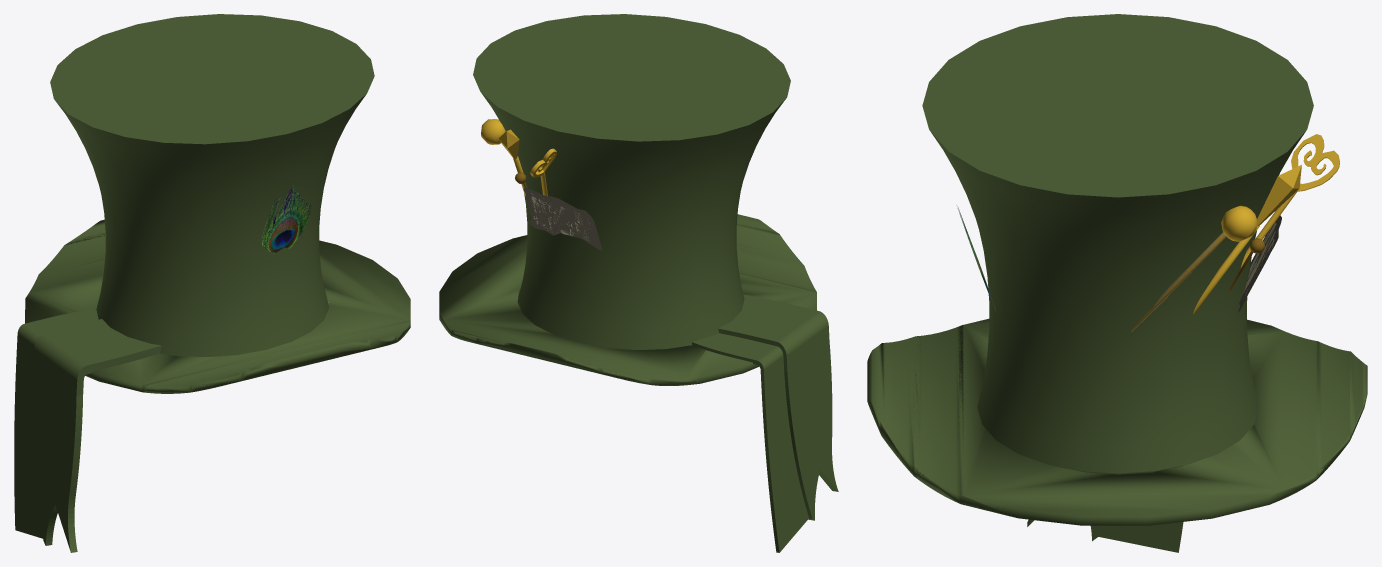
The model's file is Mad+Hatter's+Hat.fbx.
The picture shows the model from 3 angles, left to right: view 1: azimuth 30°, elevation 25°; view 2: azimuth 150°, elevation 25°; view 3: azimuth 270°, elevation 25°; orthographic projection. The views are drawn at different scales.
Parts seen in each view (by area): view 1: Componente_1_1, Group1, Componente_5_1, Componente_9_1; view 2: Componente_1_1, Group1, Componente_5_1, Componente_6_1, SimpleSphere01_1, Componente_3_1, Componente_7_1; view 3: Componente_1_1, Group1, Componente_5_1, Componente_3_1, Componente_7_1, SimpleSphere01_1, Componente_6_1, Componente_4_1.
Part boxes in pixels (x1=…): Componente_1_1: x1=50, y1=14, x2=374, y2=356; Group1: x1=25, y1=219, x2=410, y2=393; Componente_5_1: x1=14, y1=309, x2=161, y2=552; Componente_9_1: x1=262, y1=185, x2=311, y2=253; Componente_1_1: x1=473, y1=14, x2=790, y2=349; Group1: x1=439, y1=214, x2=816, y2=385; Componente_5_1: x1=692, y1=294, x2=838, y2=552; Componente_6_1: x1=523, y1=187, x2=602, y2=250; SimpleSphere01_1: x1=481, y1=119, x2=505, y2=144; Componente_3_1: x1=498, y1=129, x2=525, y2=196; Componente_7_1: x1=530, y1=148, x2=556, y2=195; Componente_1_1: x1=922, y1=14, x2=1313, y2=473; Group1: x1=867, y1=318, x2=1367, y2=525; Componente_5_1: x1=1027, y1=465, x2=1183, y2=552; Componente_3_1: x1=1193, y1=165, x2=1301, y2=314; Componente_7_1: x1=1240, y1=134, x2=1339, y2=268; SimpleSphere01_1: x1=1221, y1=205, x2=1257, y2=241; Componente_6_1: x1=1238, y1=215, x2=1281, y2=312; Componente_4_1: x1=1131, y1=232, x2=1226, y2=331.
Bounding box in the file's own units: 2.38 × 2.78 × 2.27.
